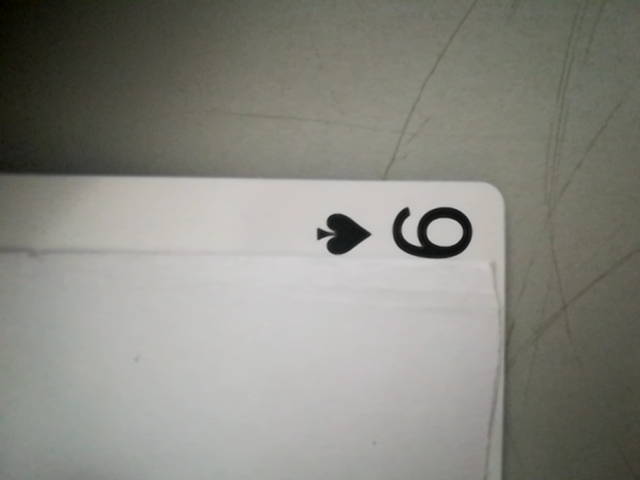ht 9: (303, 196, 492, 267)
